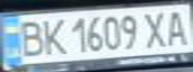0: (103, 12, 124, 52)
1: (66, 14, 87, 54)
6: (84, 14, 106, 53)
9: (118, 11, 142, 51)
A: (160, 7, 193, 47)
B: (12, 17, 48, 57)
K: (36, 15, 69, 56)
Y: (139, 8, 172, 50)
